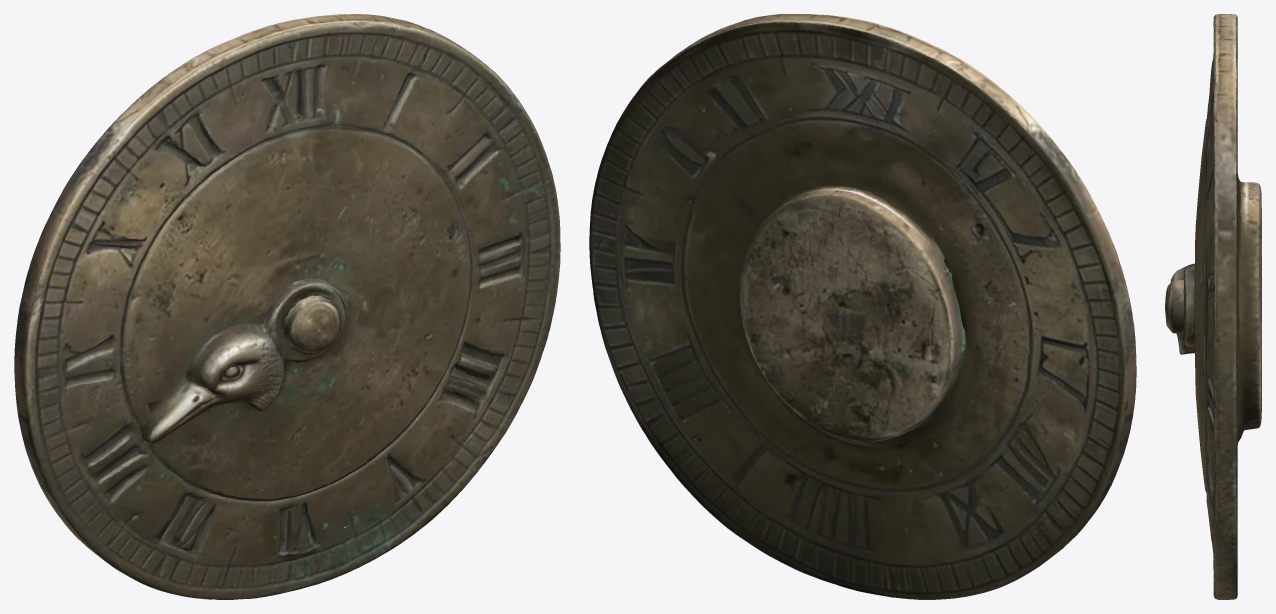
File: obj_basement_dial_1.glb
3 renders of one model, left to right at view 1: azimuth 30°, elevation 25°; view 2: azimuth 150°, elevation 25°; view 3: azimuth 270°, elevation 25°, orthographic. The views are drawn at different scales.
Parts seen in each view (by area): view 1: geometry_0; view 2: geometry_0; view 3: geometry_0.
Boxes of the visible parts, x1=… form: geometry_0: x1=14, y1=14, x2=560, y2=599; geometry_0: x1=589, y1=14, x2=1136, y2=599; geometry_0: x1=1165, y1=14, x2=1261, y2=599.
Bounding box in the file's own units: 0.2999 × 0.3 × 0.0501.
1 material, 1 textured.
